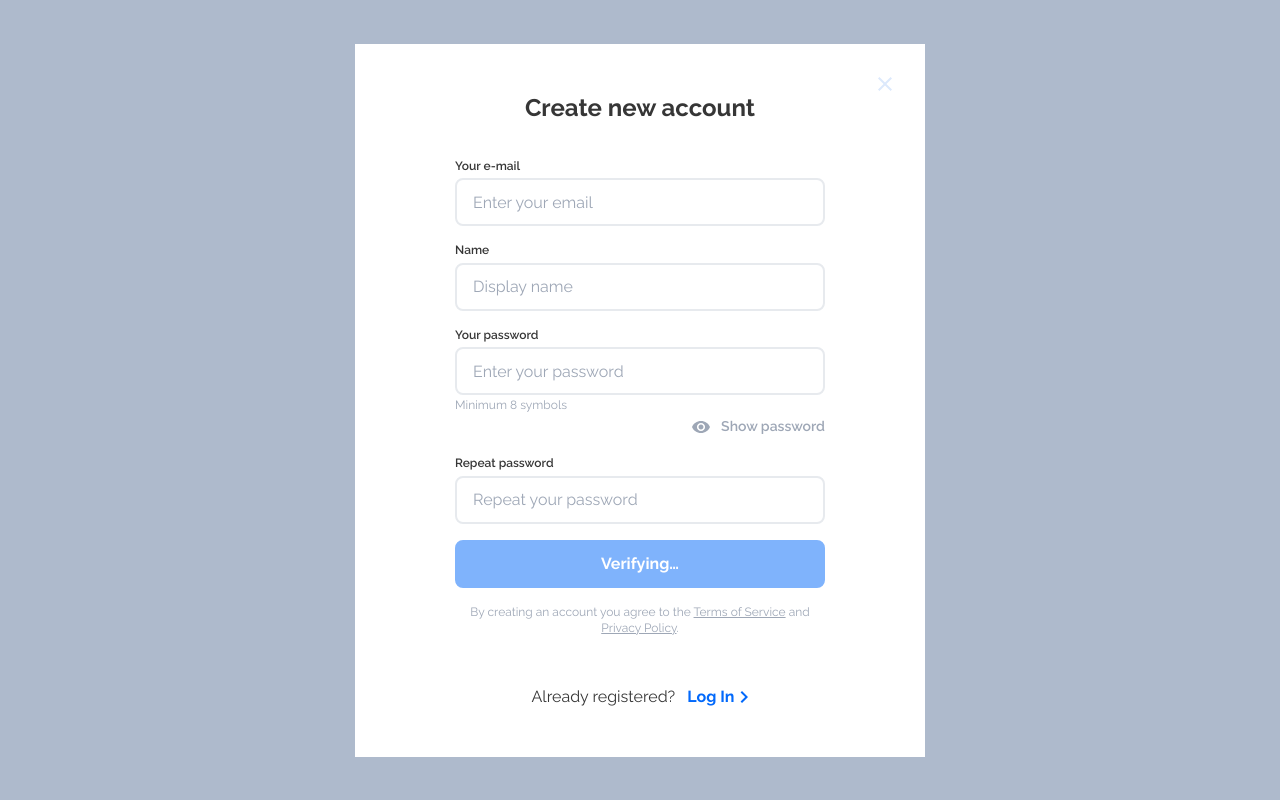
Test: AuthModal sign-up password controls › grades_the_password_as_it_is_typed
Step 1. Type "short" into the password field with id "auth-reg-password" → {"x": 640, "y": 371}, box left=455, top=347, right=825, bottom=395
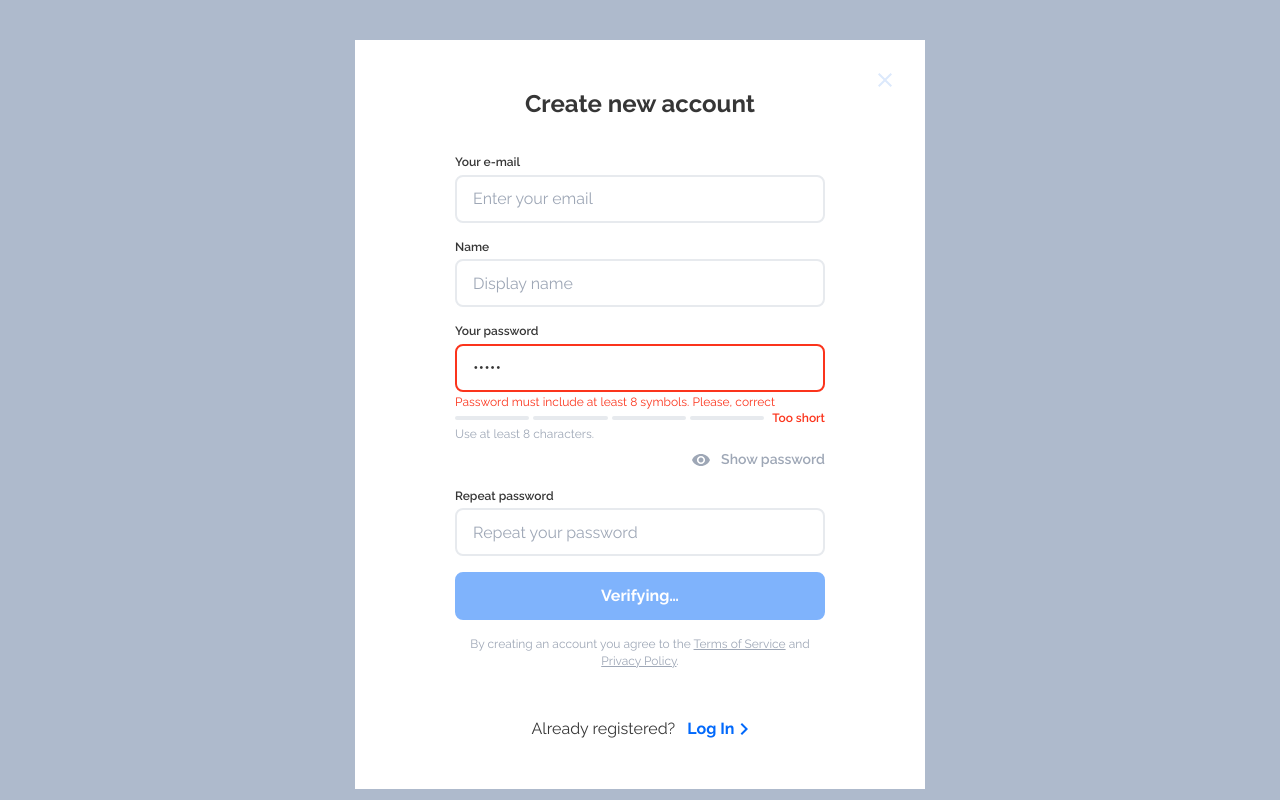
Expected: the text with test id "password-strength-label" reads "Too short", left=772, top=410, right=825, bottom=424
Step 2. Type "correcthorsebatterystaple" into the password field with id "auth-reg-password" → {"x": 640, "y": 368}, box left=455, top=344, right=825, bottom=392
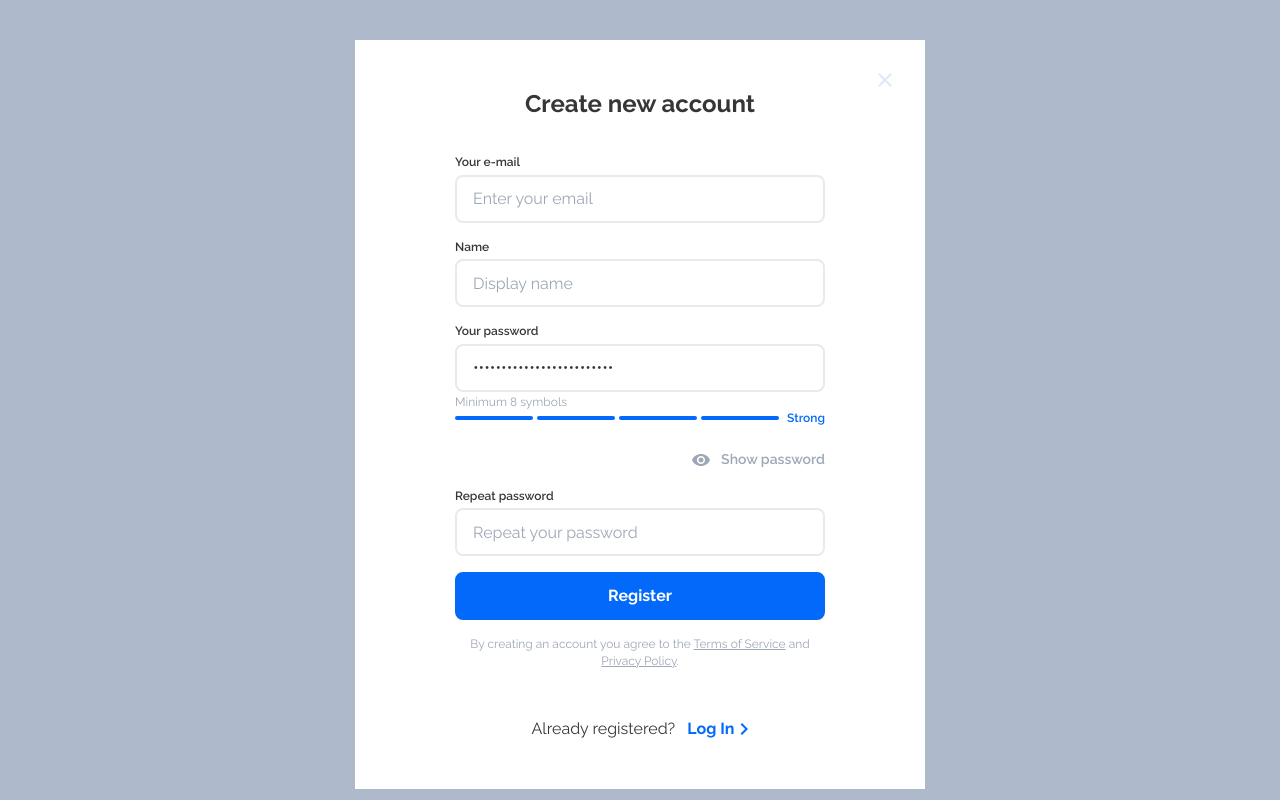
Expected: the text with test id "password-strength-label" reads "Strong", left=787, top=410, right=825, bottom=424
